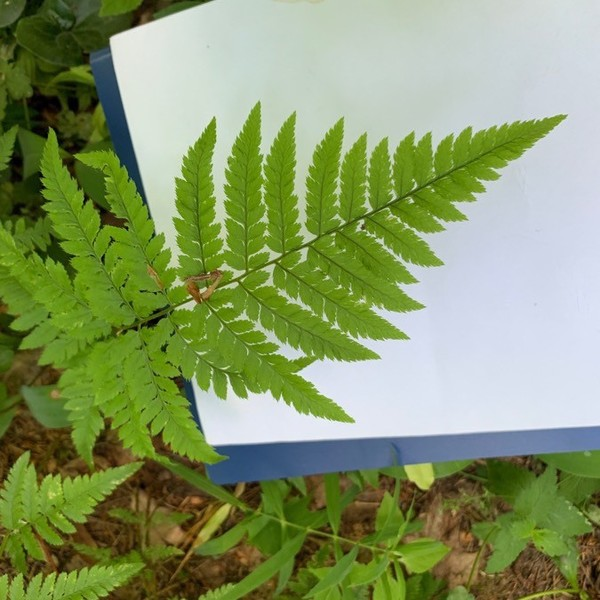obstacle: (5, 91, 562, 463)
